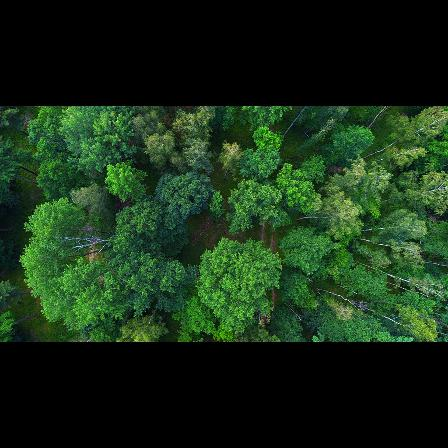Dead: (316, 287, 389, 311), (57, 225, 114, 255)
